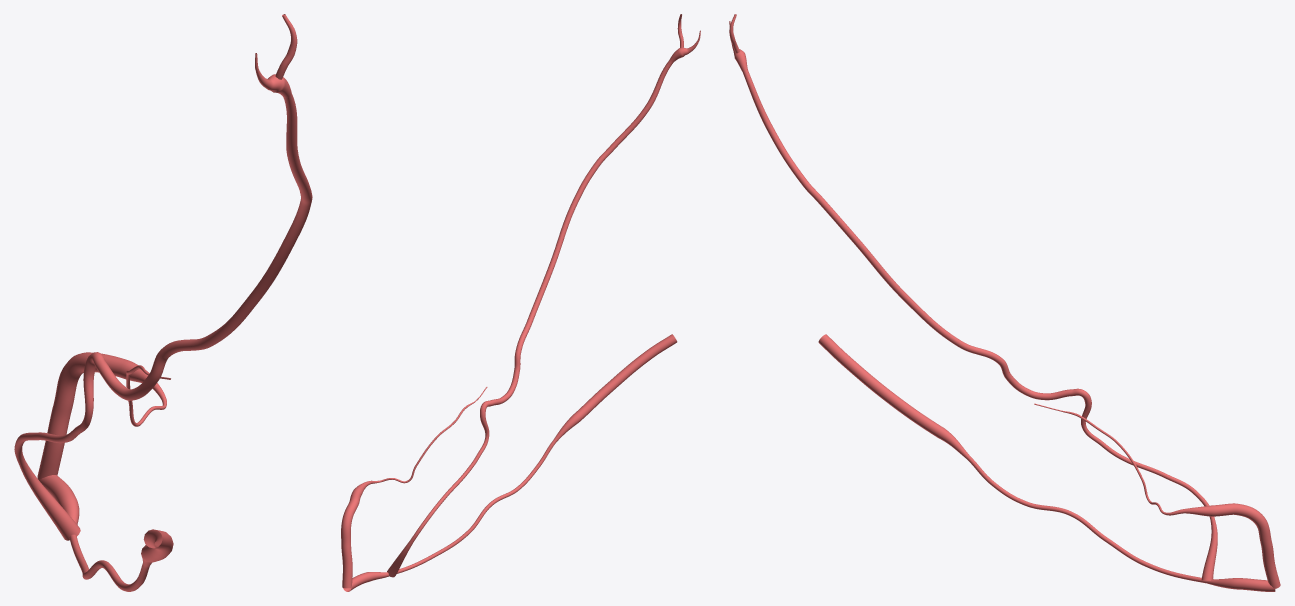
Rendered from Inferior_palpebral_arch.l_BezierCurve.140.glb.
3 views of the same model, side by side, from view 1: azimuth 30°, elevation 25°; view 2: azimuth 150°, elevation 25°; view 3: azimuth 270°, elevation 25° (orthographic). The views are drawn at different scales.
Parts seen in each view (by area): view 1: Inferior_palpebral_arch.l_BezierCurve.140; view 2: Inferior_palpebral_arch.l_BezierCurve.140; view 3: Inferior_palpebral_arch.l_BezierCurve.140.
Boxes of the visible parts, x1,y1,x2,y2 form: Inferior_palpebral_arch.l_BezierCurve.140: (14, 14, 312, 591); Inferior_palpebral_arch.l_BezierCurve.140: (341, 14, 700, 591); Inferior_palpebral_arch.l_BezierCurve.140: (729, 14, 1280, 591).
Size of the model in its own units: 0.0187 by 0.0489 by 0.0472.
